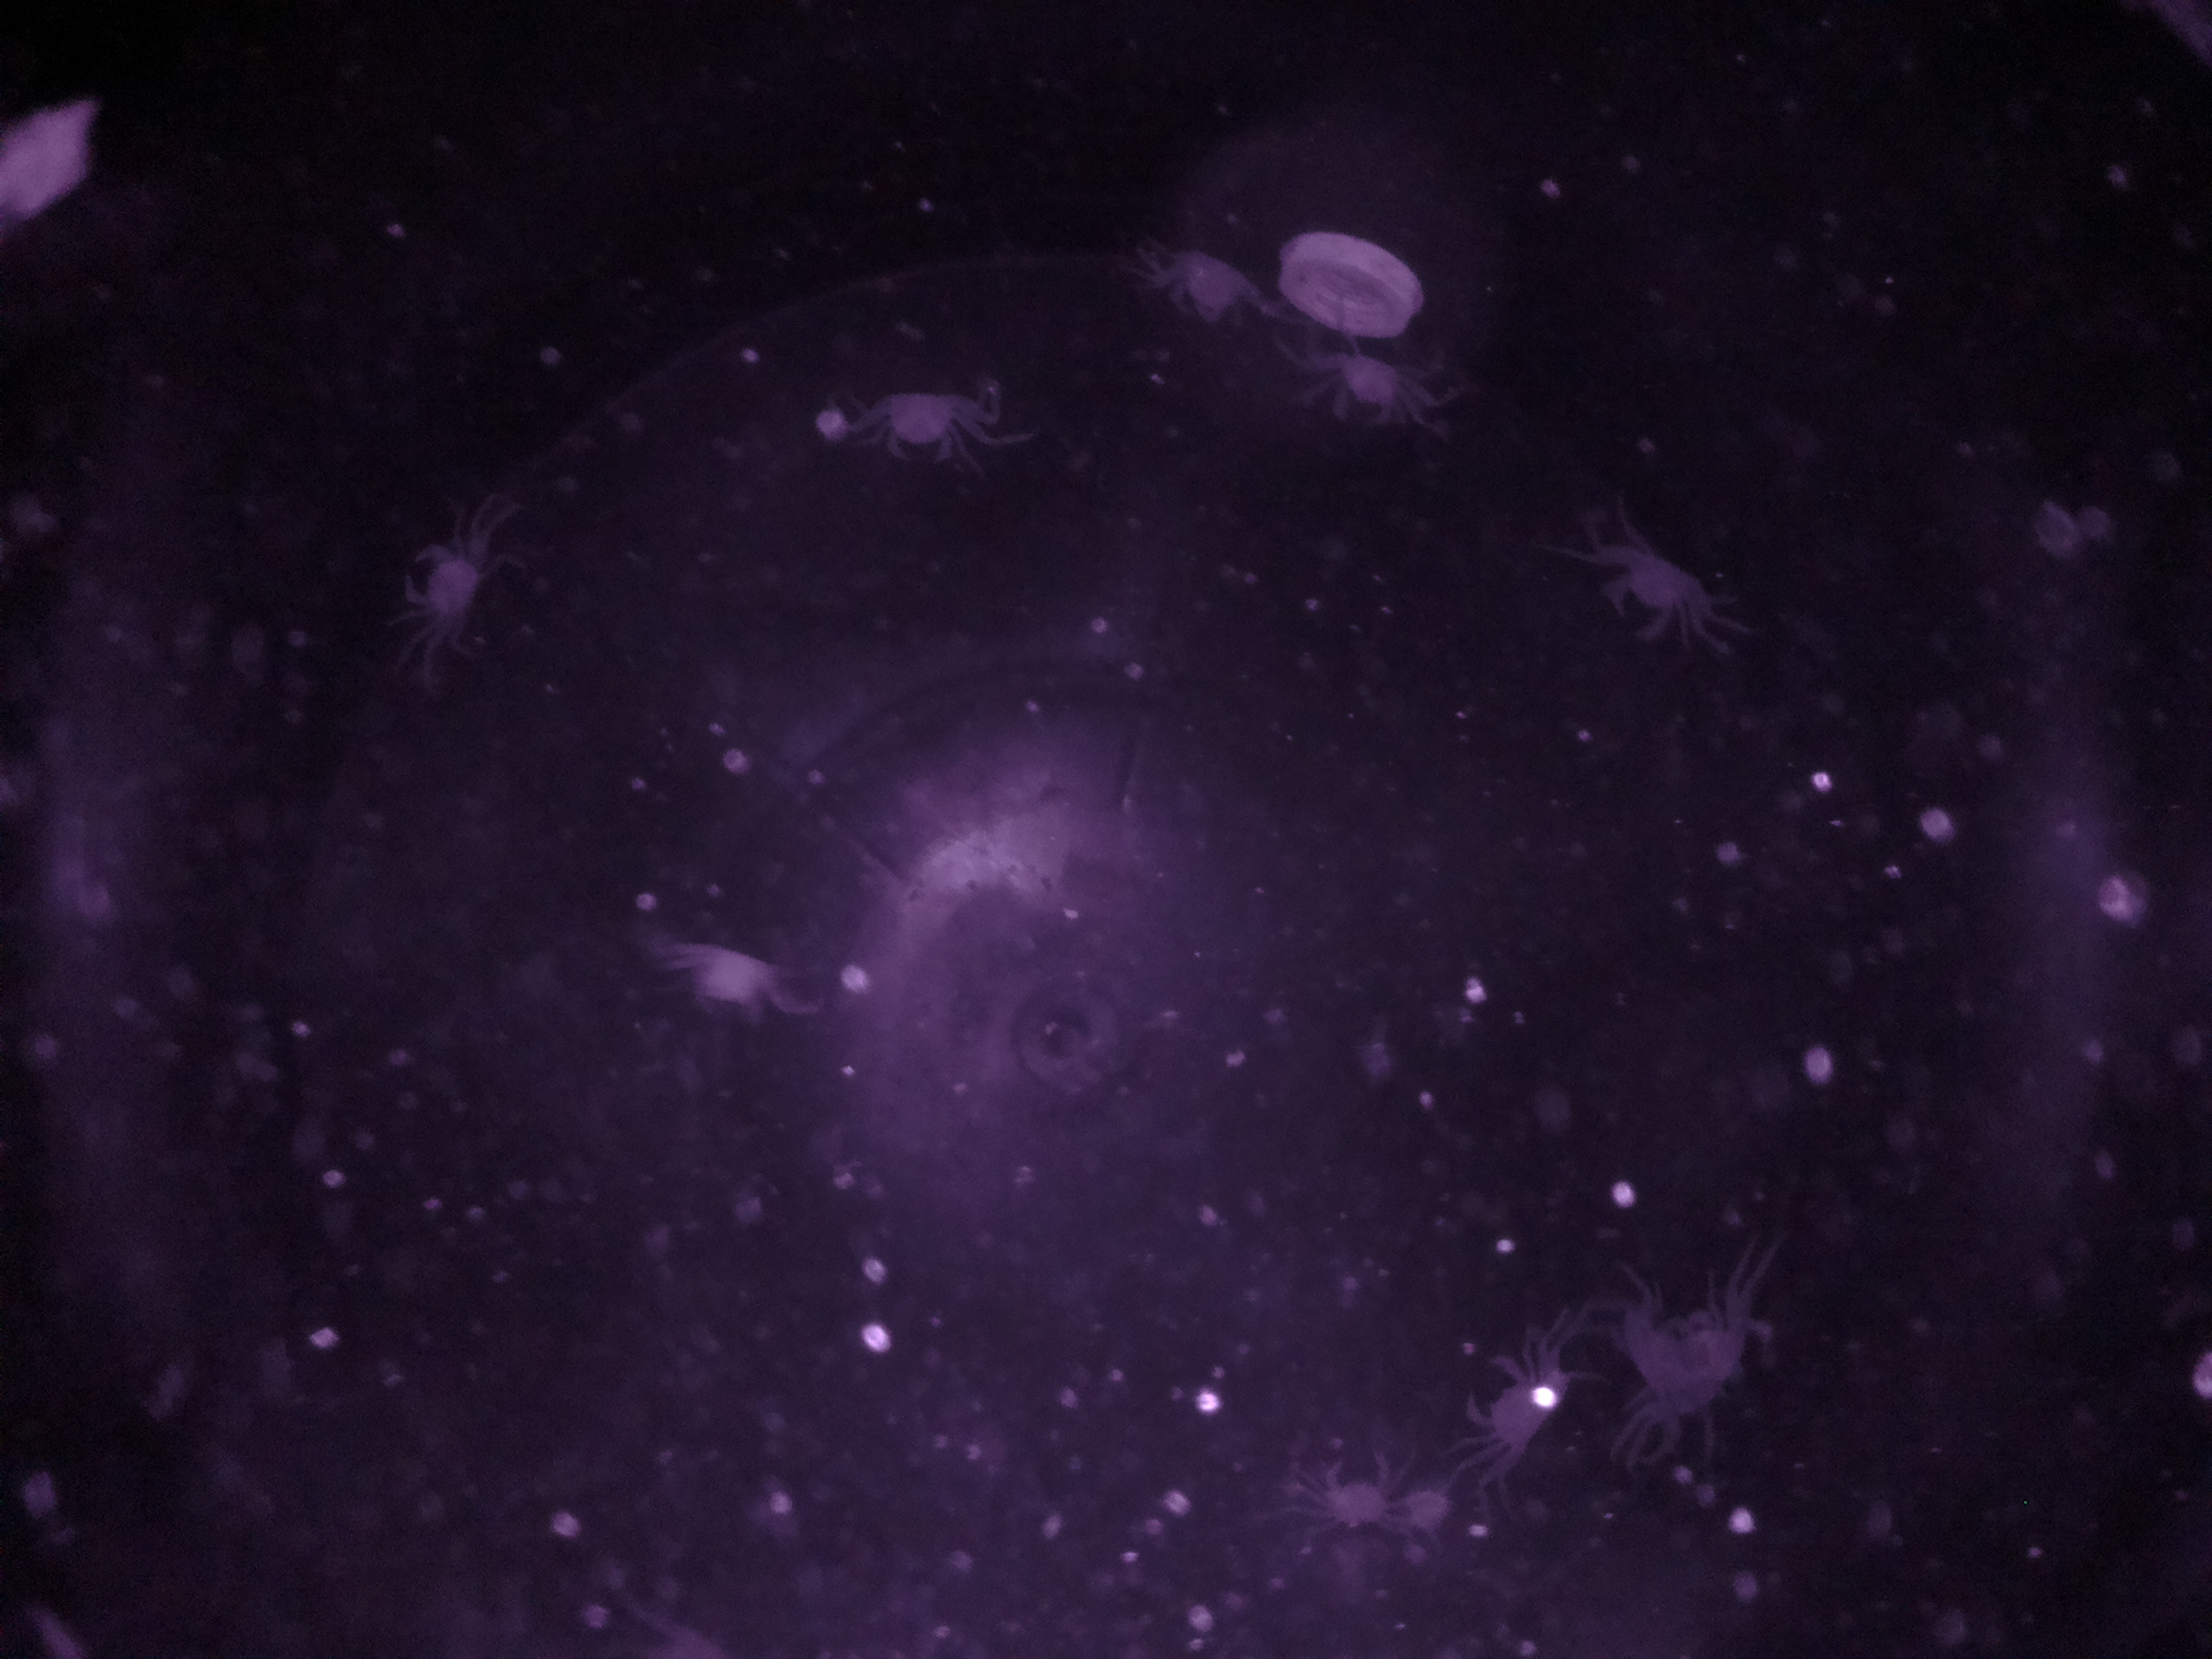Crab: (1446, 1338, 1578, 1462), (1585, 526, 1716, 645), (1306, 1431, 1416, 1558), (864, 371, 982, 476), (1318, 336, 1423, 439)
